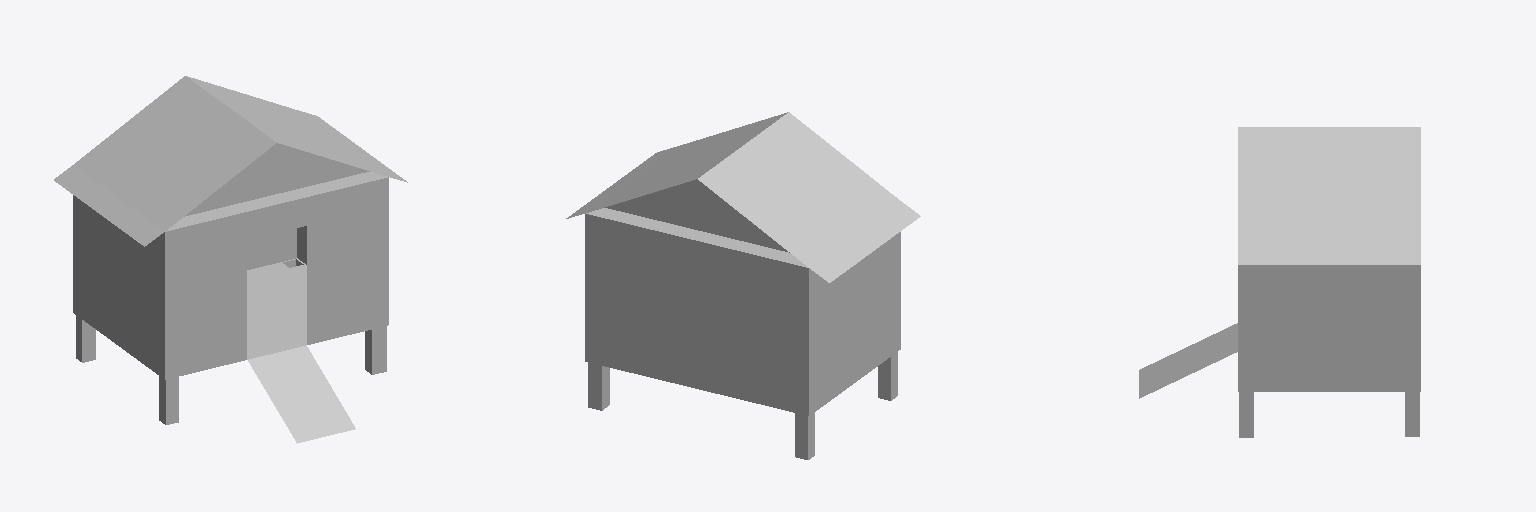
Rendered from shack.obj.
3 renders of one model, left to right at view 1: azimuth 30°, elevation 25°; view 2: azimuth 150°, elevation 25°; view 3: azimuth 270°, elevation 25°, orthographic.
Parts seen in each view (by area): view 1: Cube; view 2: Cube; view 3: Cube.
Part boxes in pixels (x1,y1,x2,y2): Cube: (54,76,407,443); Cube: (566,112,920,459); Cube: (1139,127,1420,437).
Bounding box in the file's own units: 3.74 × 3.47 × 3.46.